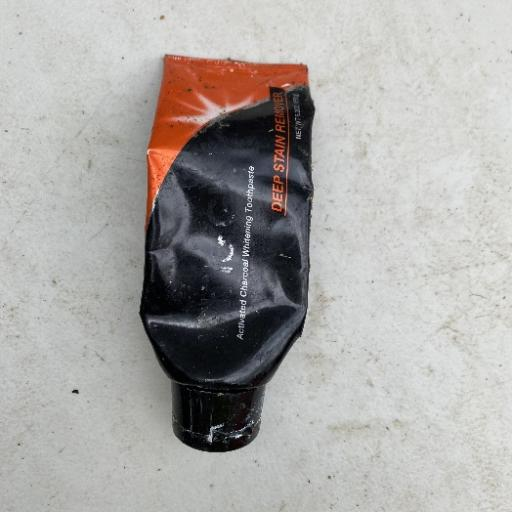Plastic: (136, 52, 318, 452)
